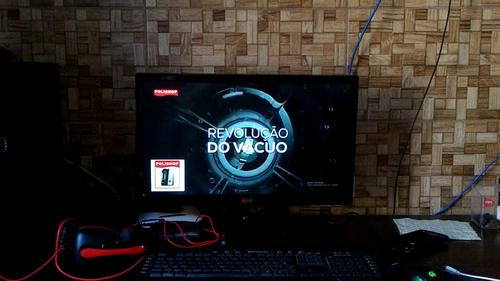Polishop #1: (150, 159, 184, 191)
